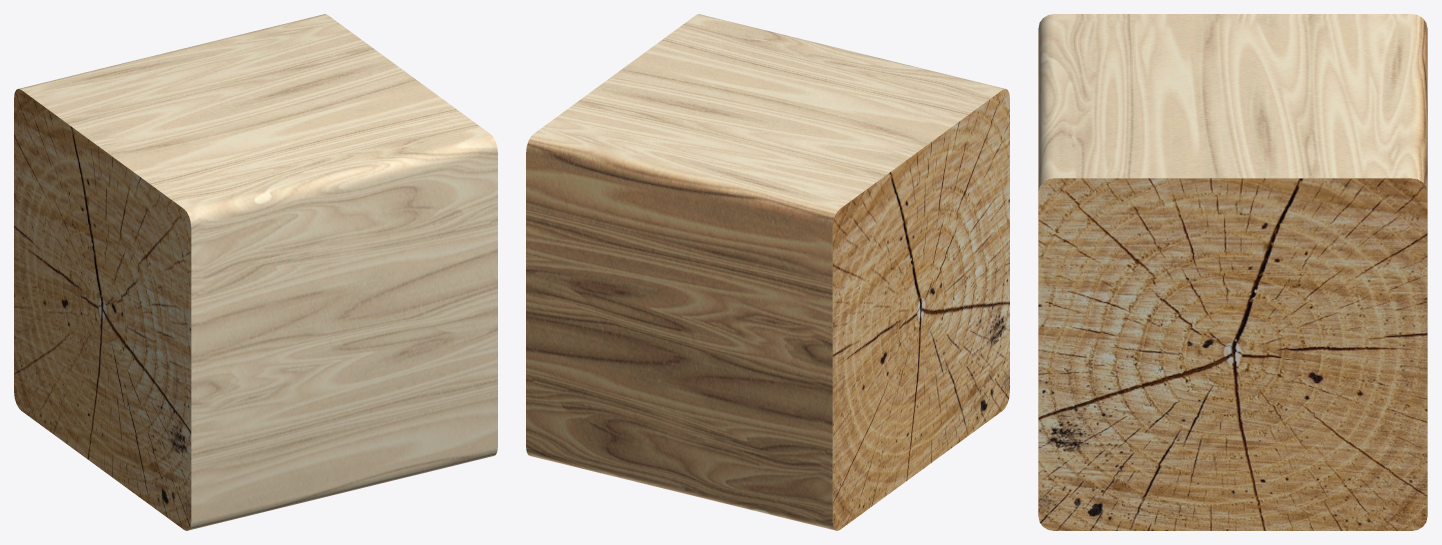
File: hophey_cube.fbx
3 renders of one model, left to right at view 1: azimuth 30°, elevation 25°; view 2: azimuth 150°, elevation 25°; view 3: azimuth 270°, elevation 25°, orthographic. The views are drawn at different scales.
Parts seen in each view (by area): view 1: Cube; view 2: Cube; view 3: Cube.
Part boxes in pixels (x1,y1,x2,y2): Cube: (14,14,497,530); Cube: (526,14,1009,530); Cube: (1038,14,1427,530).
Size of the model in its own units: 100 by 100 by 100.
